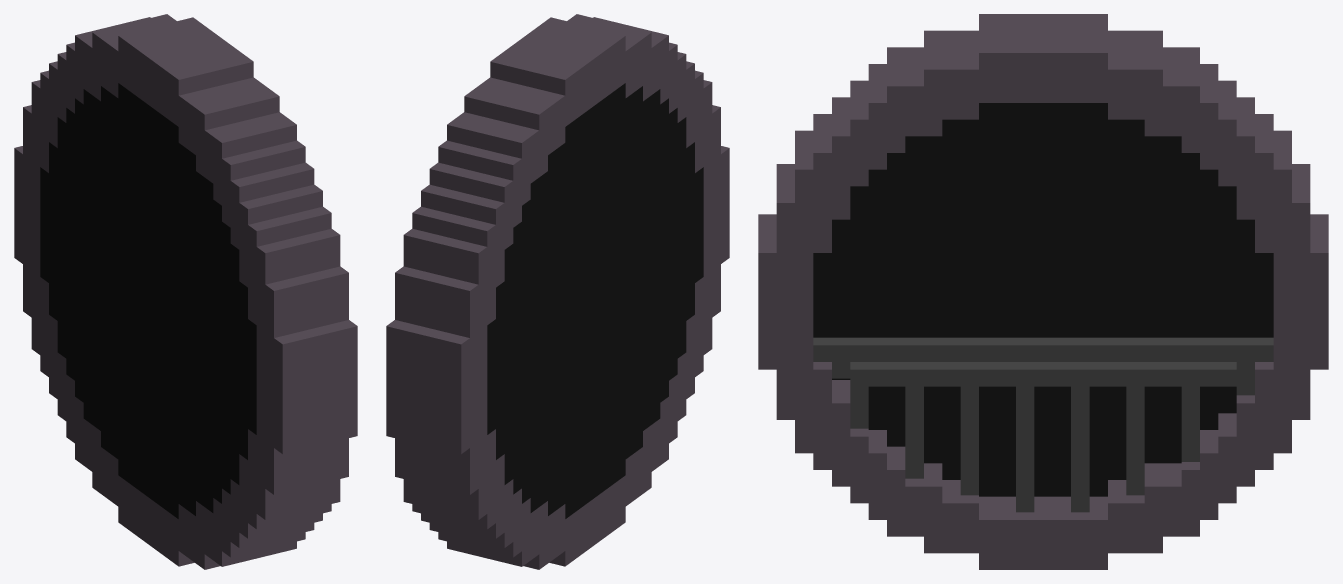
Rendered from hasugu.obj.
3 views of the same model, side by side, from view 1: azimuth 30°, elevation 25°; view 2: azimuth 150°, elevation 25°; view 3: azimuth 270°, elevation 25° (orthographic). The views are drawn at different scales.
Visible parts, largest first — view 1: hasugu; view 2: hasugu; view 3: hasugu.
Boxes of the visible parts, <box> form: hasugu: <box>14,14,357,569</box>; hasugu: <box>386,14,729,569</box>; hasugu: <box>758,14,1328,569</box>.
Size of the model in its own units: 5 by 31 by 31.
1 material, 1 textured.
